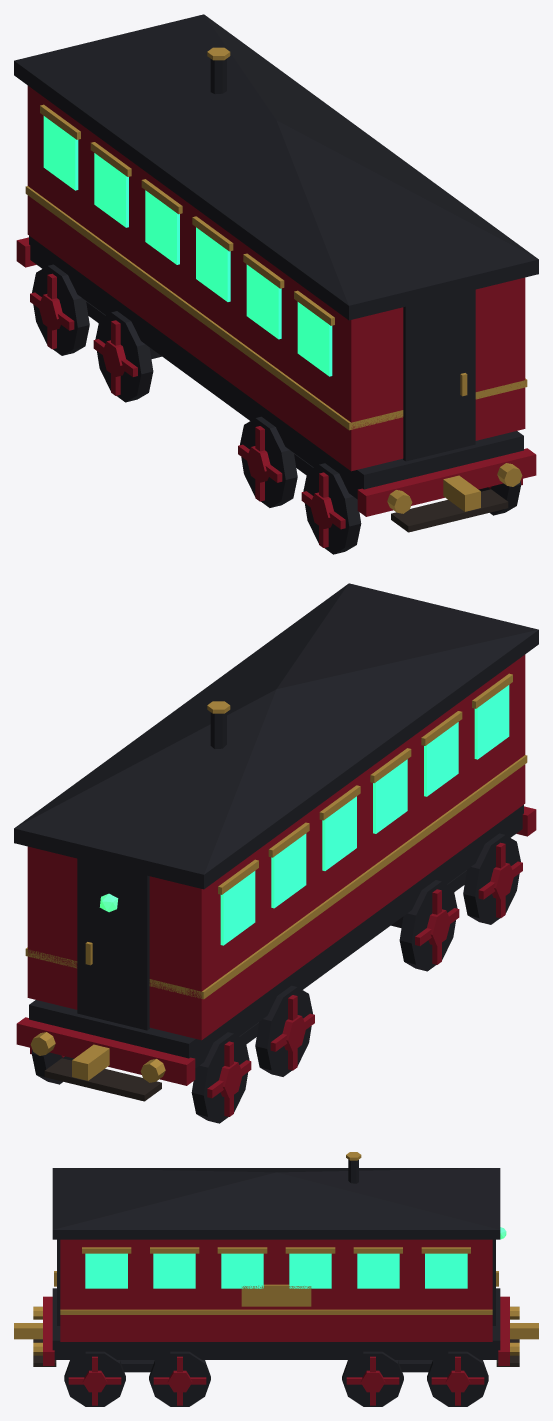
Rendered from carriage.glb.
3 views of the same model, one above another, from view 1: azimuth 30°, elevation 25°; view 2: azimuth 150°, elevation 25°; view 3: azimuth 270°, elevation 25° (orthographic). The views are drawn at different scales.
Parts seen in each view (by area): view 1: Roof, Body.001, Door_Front, Chassis, RoofBase, Belt, BufferBeam_Front, Wheel_L1_Disc.001, Wheel_L2_Disc.001, Wheel_L1_Disc, Wheel_L2_Disc, Step_Front (+7 smaller); view 2: Roof, Body.001, Door_Back, Chassis, RoofBase, Belt, BufferBeam_Back, Wheel_L2_Disc, Wheel_L1_Disc, Wheel_L2_Disc.001, Wheel_L1_Disc.001, Step_Back (+7 smaller); view 3: Body.001, Roof, Chassis, RoofBase, Belt, Wheel_R1_Disc, Wheel_R2_Disc, Wheel_R1_Disc.001, Wheel_R2_Disc.001, Window_R1, Window_R2, Window_R4 (+22 smaller).
Part boxes in pixels (x1=…): Roof: x1=14, y1=14, x2=538, y2=305; Body.001: x1=27, y1=85, x2=525, y2=471; Door_Front: x1=403, y1=289, x2=475, y2=461; Chassis: x1=29, y1=236, x2=523, y2=499; RoofBase: x1=14, y1=61, x2=538, y2=320; Belt: x1=25, y1=186, x2=527, y2=430; BufferBeam_Front: x1=357, y1=448, x2=536, y2=516; Wheel_L1_Disc.001: x1=95, y1=311, x2=153, y2=402; Wheel_L2_Disc.001: x1=32, y1=264, x2=89, y2=355; Wheel_L1_Disc: x1=303, y1=463, x2=361, y2=554; Wheel_L2_Disc: x1=240, y1=416, x2=297, y2=507; Step_Front: x1=391, y1=489, x2=508, y2=532; Roof: x1=14, y1=583, x2=538, y2=874; Body.001: x1=27, y1=654, x2=525, y2=1040; Door_Back: x1=77, y1=858, x2=149, y2=1030; Chassis: x1=29, y1=805, x2=523, y2=1068; RoofBase: x1=14, y1=630, x2=538, y2=889; Belt: x1=25, y1=755, x2=527, y2=999; BufferBeam_Back: x1=16, y1=1017, x2=195, y2=1085; Wheel_L2_Disc: x1=399, y1=880, x2=457, y2=971; Wheel_L1_Disc: x1=463, y1=833, x2=520, y2=924; Wheel_L2_Disc.001: x1=191, y1=1032, x2=249, y2=1123; Wheel_L1_Disc.001: x1=255, y1=985, x2=312, y2=1076; Step_Back: x1=44, y1=1058, x2=161, y2=1101; Body.001: x1=60, y1=1239, x2=492, y2=1341; Roof: x1=52, y1=1168, x2=500, y2=1229; Chassis: x1=52, y1=1288, x2=500, y2=1359; RoofBase: x1=52, y1=1230, x2=500, y2=1239; Belt: x1=60, y1=1309, x2=492, y2=1314; Wheel_R1_Disc: x1=64, y1=1351, x2=125, y2=1406; Wheel_R2_Disc: x1=149, y1=1351, x2=210, y2=1406; Wheel_R1_Disc.001: x1=342, y1=1351, x2=403, y2=1406; Wheel_R2_Disc.001: x1=427, y1=1351, x2=488, y2=1406; Window_R1: x1=85, y1=1253, x2=127, y2=1288; Window_R2: x1=153, y1=1253, x2=195, y2=1288; Window_R4: x1=289, y1=1253, x2=331, y2=1288.
Size of the model in its own units: 1.9 by 3.2 by 6.8.
